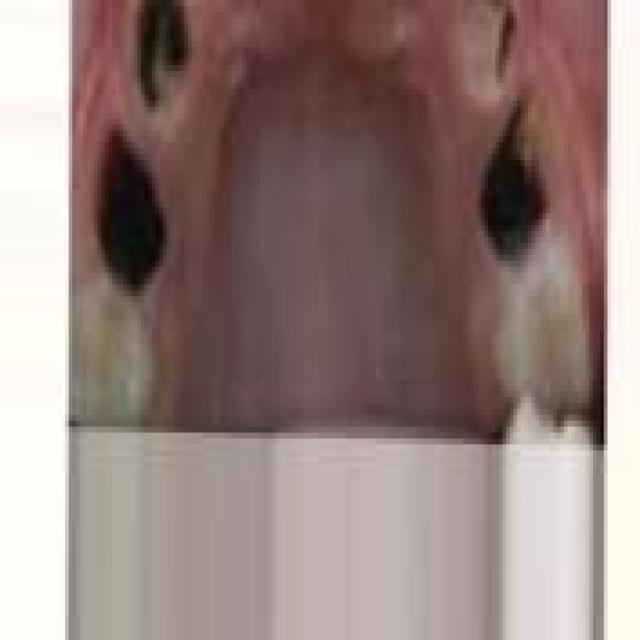caries: (76, 119, 192, 313), (462, 89, 560, 271), (130, 0, 201, 126), (466, 0, 532, 101)
